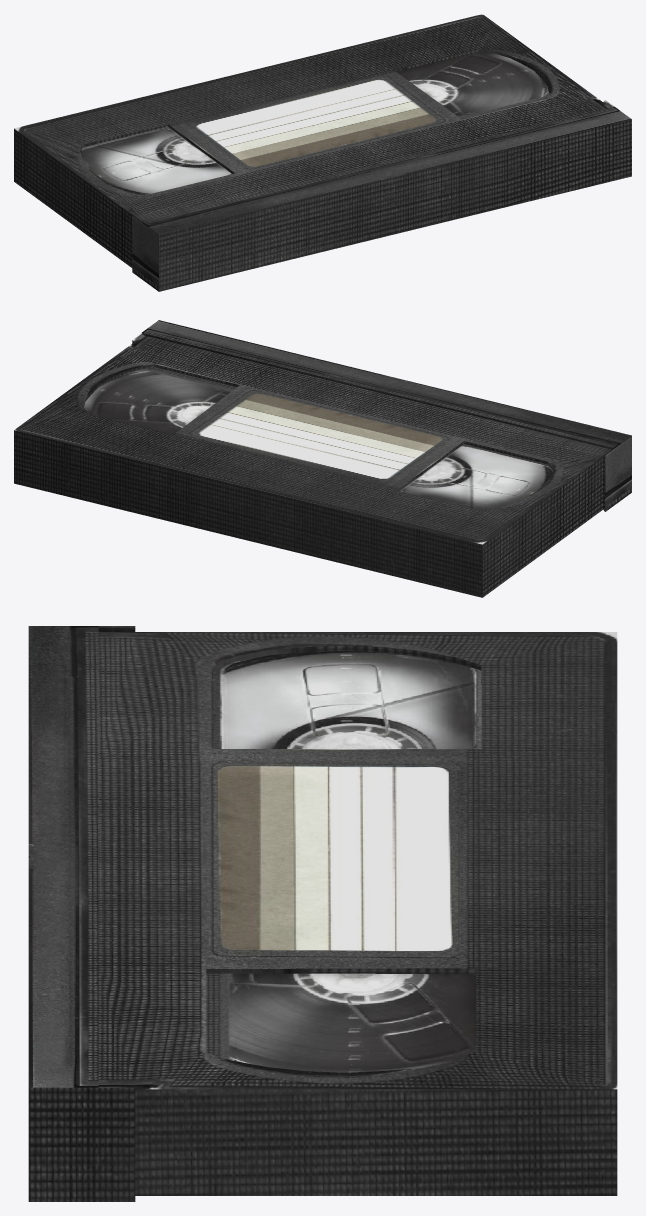
The model's file is VHS.gltf.
3 views of the same model, one above another, from view 1: azimuth 30°, elevation 25°; view 2: azimuth 150°, elevation 25°; view 3: azimuth 270°, elevation 25° (orthographic). The views are drawn at different scales.
Visible parts, largest first — view 1: VHS; view 2: VHS; view 3: VHS.
Boxes of the visible parts, box(x1,y1,x2,y2) form: VHS: box(14, 14, 631, 291); VHS: box(14, 320, 631, 597); VHS: box(28, 626, 617, 1201).
Bounding box in the file's own units: 0.1206 × 0.0139 × 0.065.
Materials: 1 (1 with a texture image).
